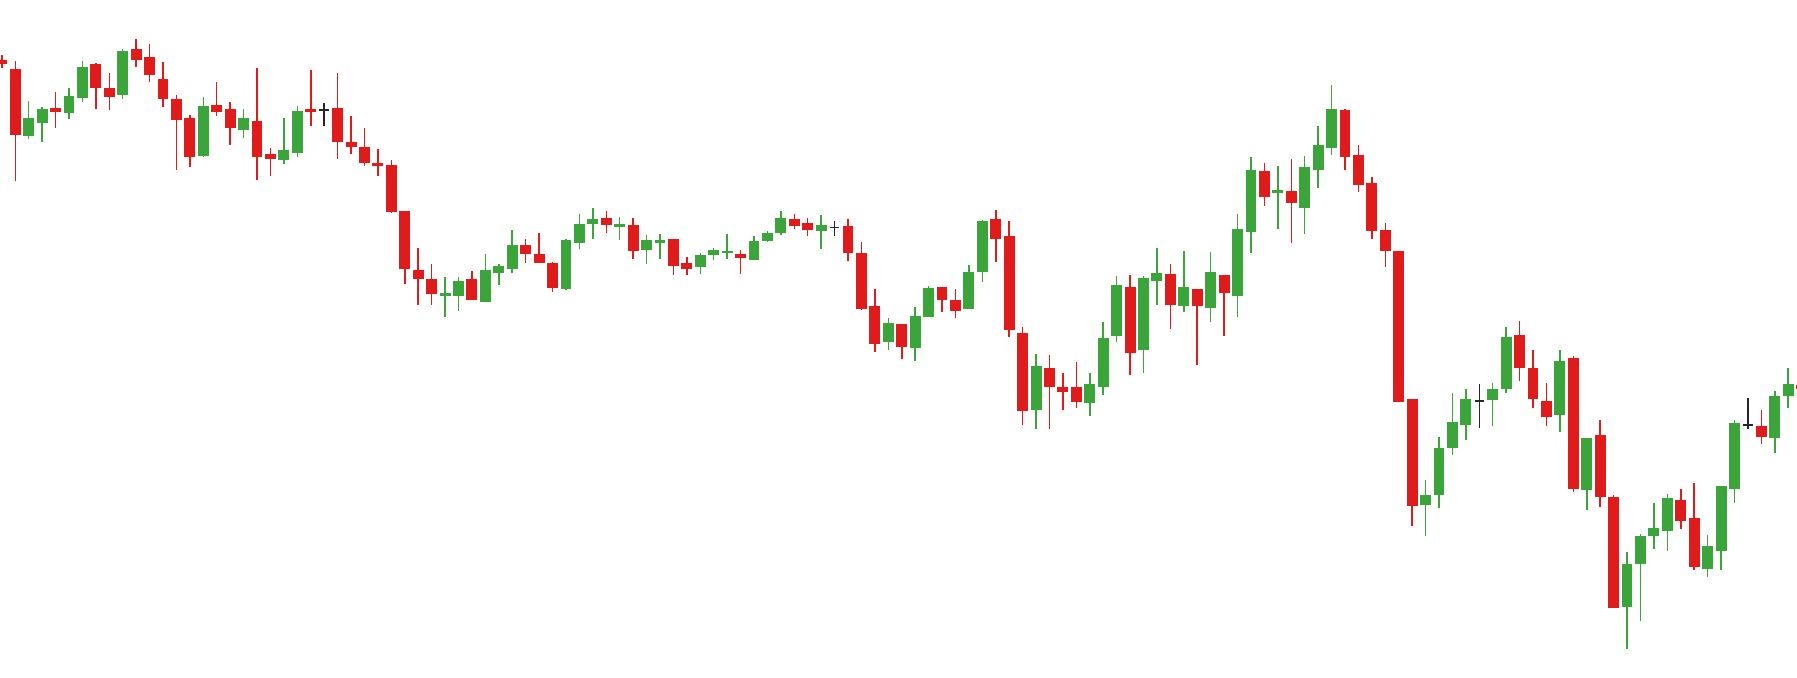sell: (1243, 86, 1367, 205), (248, 56, 316, 143)
